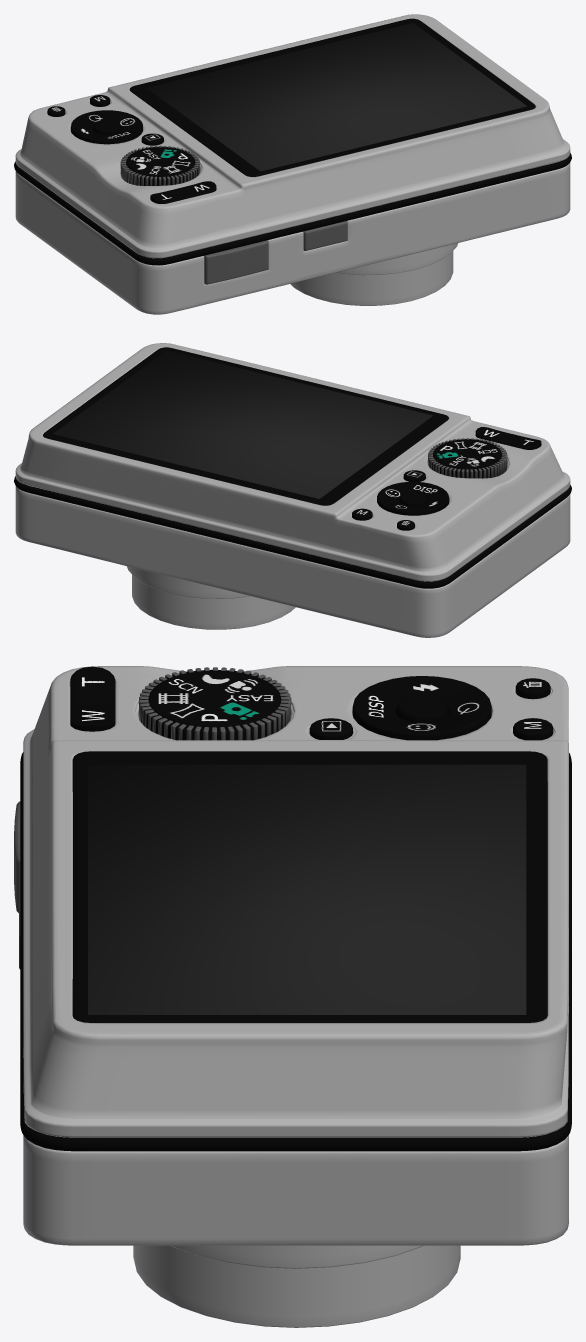
The model's file is 10818_DigitalCamera_v2.obj.
3 views of the same model, one above another, from view 1: azimuth 30°, elevation 25°; view 2: azimuth 150°, elevation 25°; view 3: azimuth 270°, elevation 25° (orthographic). The views are drawn at different scales.
Parts seen in each view (by area): view 1: Digital_Camera_back, Digital_Camera_lcd_screen, Digital_Camera_Front, Digital_Camera_lcd_black, Digital_Camera_buttons, Digital_Camera_lens_2, Digital_Camera_metal_line, Digital_Camera_Main_button, Digital_Camera_lens_1, Digital_Camera_roll, Digital_Camera_Main_button_2; view 2: Digital_Camera_back, Digital_Camera_lcd_screen, Digital_Camera_Front, Digital_Camera_lcd_black, Digital_Camera_buttons, Digital_Camera_lens_2, Digital_Camera_metal_line, Digital_Camera_lens_1, Digital_Camera_roll; view 3: Digital_Camera_lcd_screen, Digital_Camera_back, Digital_Camera_Front, Digital_Camera_buttons, Digital_Camera_lcd_black, Digital_Camera_lens_2, Digital_Camera_metal_line, Digital_Camera_lens_1, Digital_Camera_roll.
Part boxes in pixels (<box>): Digital_Camera_back: <box>15,14,570,258</box>; Digital_Camera_lcd_screen: <box>147,23,526,171</box>; Digital_Camera_Front: <box>15,161,570,314</box>; Digital_Camera_lcd_black: <box>129,18,535,176</box>; Digital_Camera_buttons: <box>47,95,216,203</box>; Digital_Camera_lens_2: <box>290,251,453,305</box>; Digital_Camera_metal_line: <box>14,153,571,265</box>; Digital_Camera_Main_button: <box>204,240,268,284</box>; Digital_Camera_lens_1: <box>337,243,458,275</box>; Digital_Camera_roll: <box>120,145,199,185</box>; Digital_Camera_Main_button_2: <box>303,221,347,250</box>; Digital_Camera_back: <box>15,343,570,581</box>; Digital_Camera_lcd_screen: <box>53,350,433,498</box>; Digital_Camera_Front: <box>15,485,570,637</box>; Digital_Camera_lcd_black: <box>43,347,448,505</box>; Digital_Camera_buttons: <box>352,427,541,530</box>; Digital_Camera_lens_2: <box>132,575,295,629</box>; Digital_Camera_metal_line: <box>14,476,571,588</box>; Digital_Camera_lens_1: <box>127,566,249,598</box>; Digital_Camera_roll: <box>428,438,507,478</box>; Digital_Camera_lcd_screen: <box>88,764,526,1014</box>; Digital_Camera_back: <box>23,666,568,1137</box>; Digital_Camera_Front: <box>23,1134,568,1245</box>; Digital_Camera_buttons: <box>70,666,553,740</box>; Digital_Camera_lcd_black: <box>72,751,547,1022</box>; Digital_Camera_lens_2: <box>133,1245,460,1327</box>; Digital_Camera_metal_line: <box>20,752,571,1151</box>; Digital_Camera_lens_1: <box>171,1245,423,1268</box>; Digital_Camera_roll: <box>138,667,291,740</box>.
Size of the model in its own units: 15.2 by 6.04 by 8.83.
